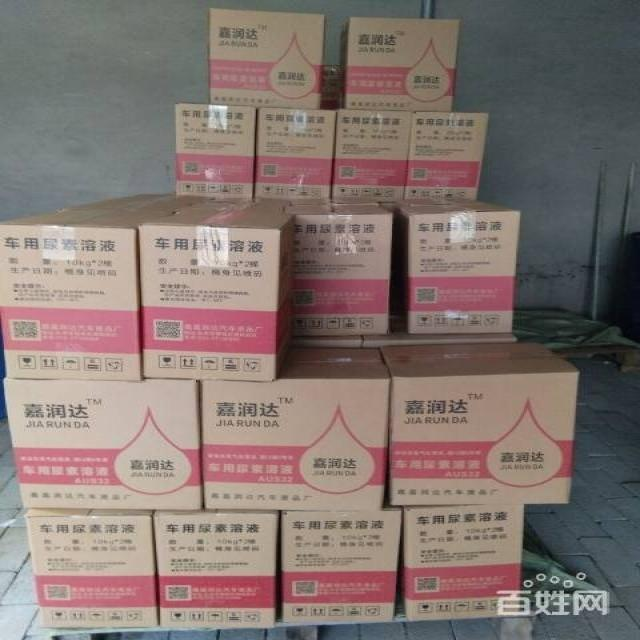box: (380, 342, 579, 506), (201, 348, 391, 510), (0, 208, 173, 380), (139, 208, 296, 380), (3, 379, 201, 509), (392, 201, 520, 334), (23, 509, 159, 627), (153, 510, 279, 628), (401, 504, 524, 621), (285, 205, 392, 335), (281, 507, 401, 622), (209, 7, 325, 109), (339, 18, 461, 111), (176, 104, 256, 198), (405, 112, 489, 200), (256, 107, 336, 198), (332, 109, 411, 197), (363, 327, 517, 348), (69, 199, 201, 213), (189, 202, 283, 214), (293, 336, 361, 348), (321, 65, 339, 106), (396, 196, 477, 205), (205, 198, 288, 204), (124, 194, 176, 200)
